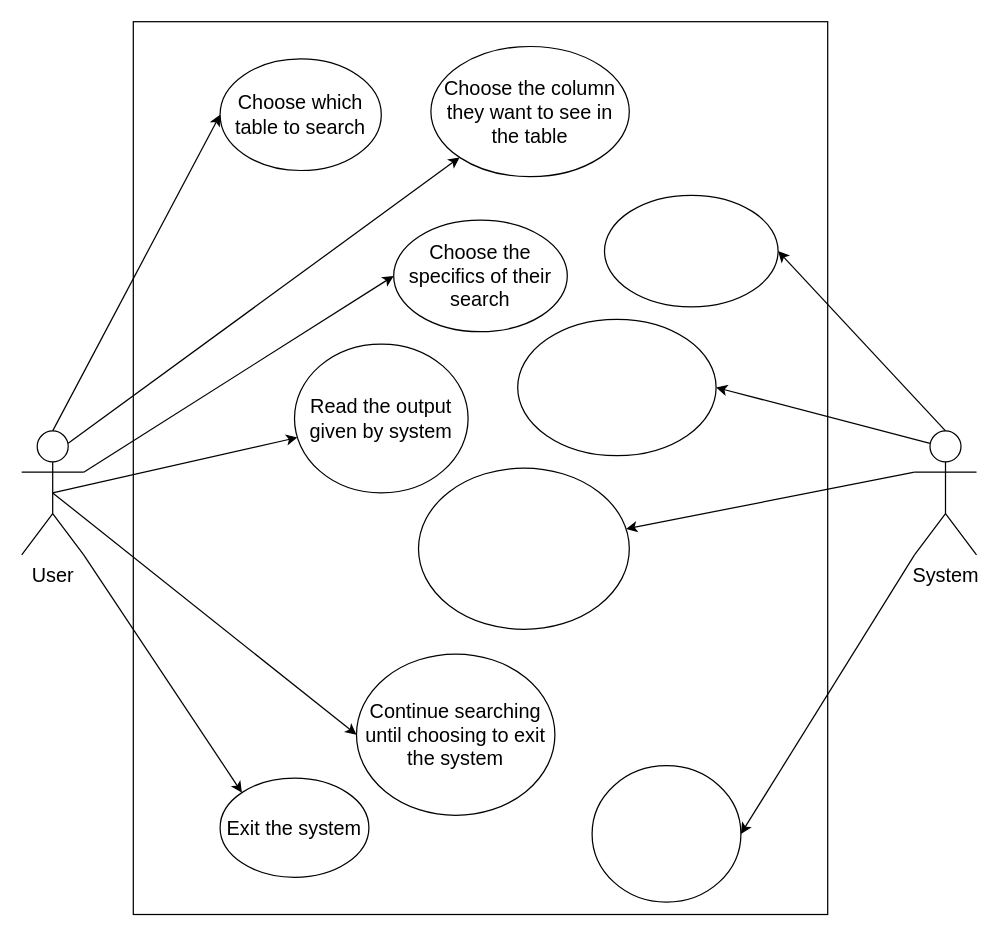
Some shapes in this 999 by 936 pixel diagram are drawn without their labels. Here are the shapes that lost their labels. From the top down, the centre of each, then its label:
(690,250): Provide a list of available choices for all tables
(616,387): Provide an error message if unable to search input
(523,548): Print the output of the search for the user to read
(666,833): Stop running when user exits the system
